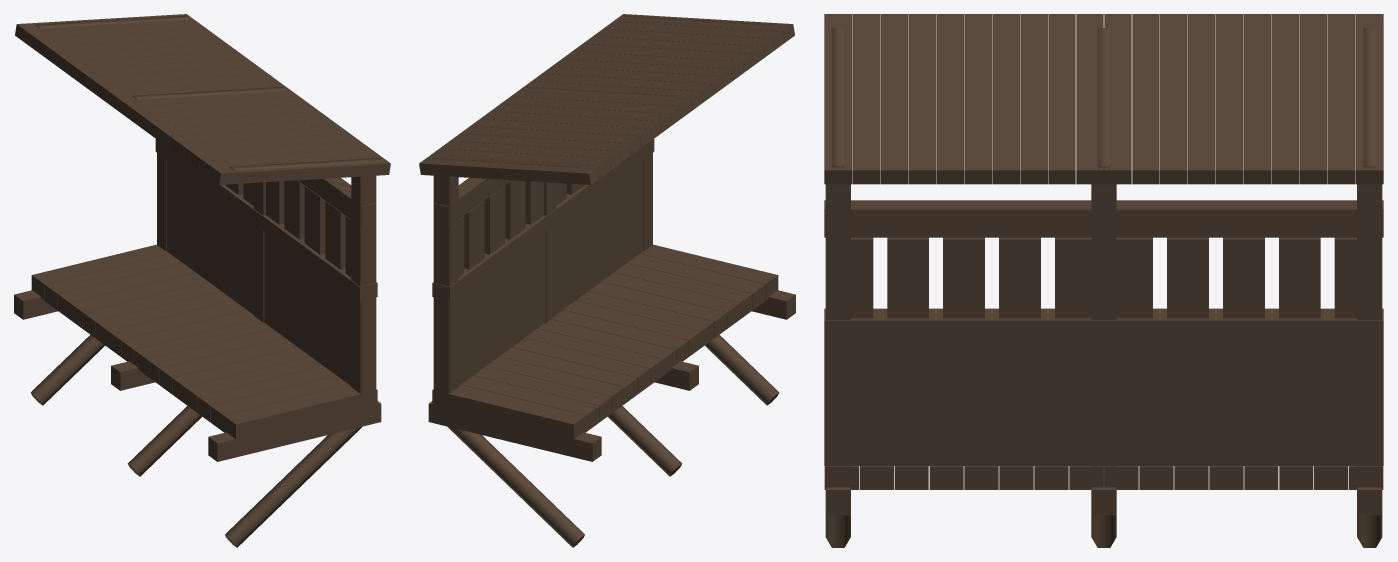
The model's file is reconstruction-timber-hoarding.glb.
3 views of the same model, side by side, from view 1: azimuth 30°, elevation 25°; view 2: azimuth 150°, elevation 25°; view 3: azimuth 270°, elevation 25° (orthographic). The views are drawn at different scales.
Parts seen in each view (by area): view 1: Mesh_TimberConstruction; view 2: Mesh_TimberConstruction; view 3: Mesh_TimberConstruction.
Part boxes in pixels (left/top/right/bottom): Mesh_TimberConstruction: left=14, top=14, right=390, bottom=547; Mesh_TimberConstruction: left=419, top=14, right=795, bottom=547; Mesh_TimberConstruction: left=824, top=14, right=1383, bottom=547.
Size of the model in its own units: 1.96 by 4.11 by 4.
